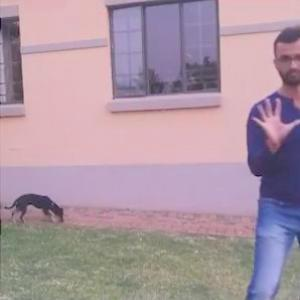follow_hand: (248, 93, 299, 153)
